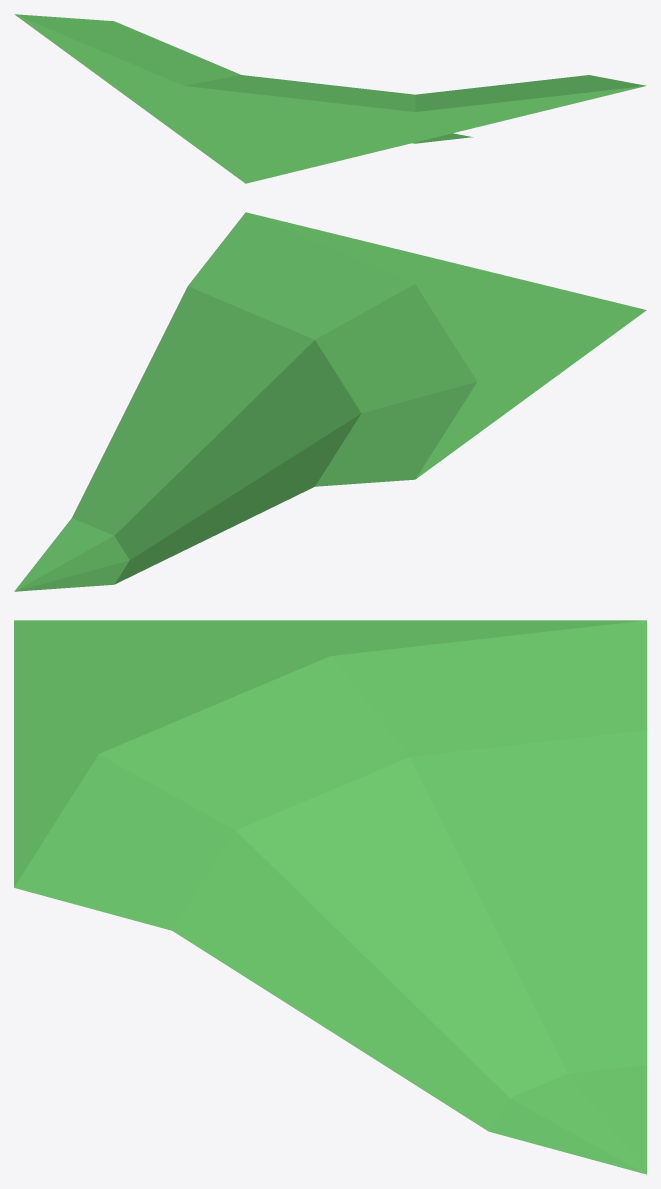
Rendered from Hilly_Terrain_Hill_Corner_Inner_2x2.glb.
3 views of the same model, one above another, from view 1: azimuth 30°, elevation 25°; view 2: azimuth 150°, elevation 25°; view 3: azimuth 270°, elevation 25° (orthographic). The views are drawn at different scales.
Visible parts, largest first — view 1: Hilly_Terrain_Hill_Corner_Inner_2x2; view 2: Hilly_Terrain_Hill_Corner_Inner_2x2; view 3: Hilly_Terrain_Hill_Corner_Inner_2x2.
Part boxes in pixels (bbox=[...]): Hilly_Terrain_Hill_Corner_Inner_2x2: bbox=[14, 14, 646, 183]; Hilly_Terrain_Hill_Corner_Inner_2x2: bbox=[14, 212, 646, 591]; Hilly_Terrain_Hill_Corner_Inner_2x2: bbox=[14, 620, 646, 1174].
Size of the model in its own units: 2 by 1 by 2.
